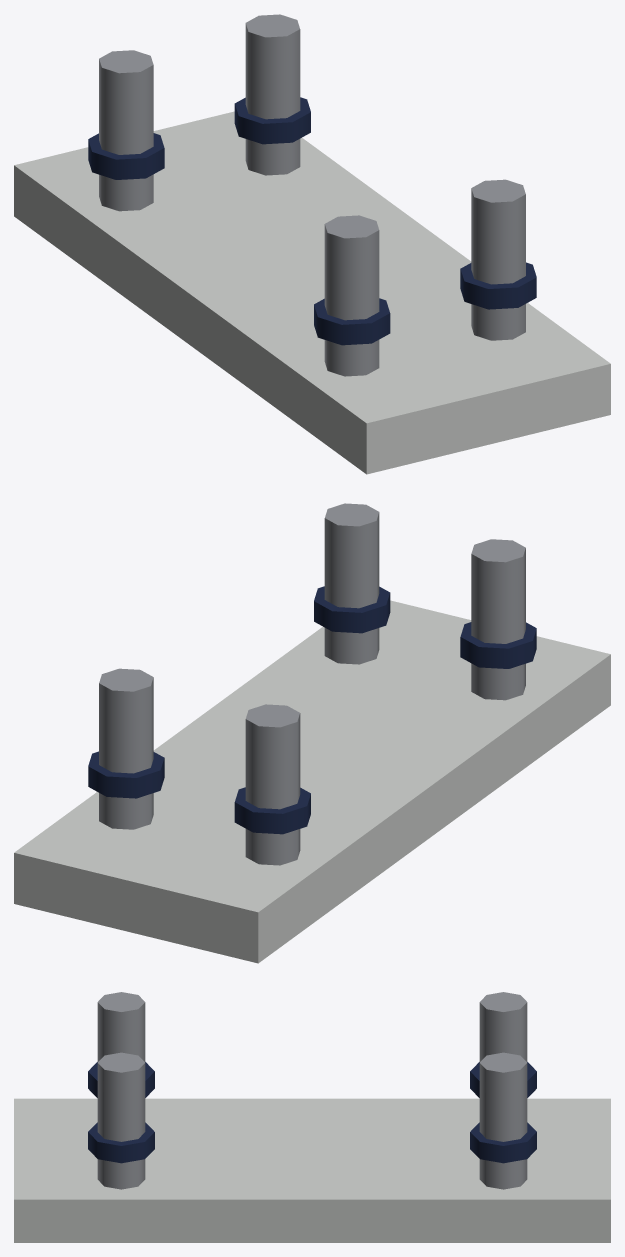
The model's file is s200_heat_pipe_column.obj.
3 renders of one model, top to bottom at view 1: azimuth 30°, elevation 25°; view 2: azimuth 150°, elevation 25°; view 3: azimuth 270°, elevation 25°, orthographic. The views are drawn at different scales.
Visible parts, largest first — view 1: s200_heat_pipe_column; view 2: s200_heat_pipe_column; view 3: s200_heat_pipe_column.
Part boxes in pixels (x1=…): s200_heat_pipe_column: x1=14, y1=14, x2=610, y2=474; s200_heat_pipe_column: x1=14, y1=503, x2=610, y2=963; s200_heat_pipe_column: x1=14, y1=992, x2=610, y2=1242.
Bounding box in the file's own units: 0.5 × 0.37 × 1.25.
